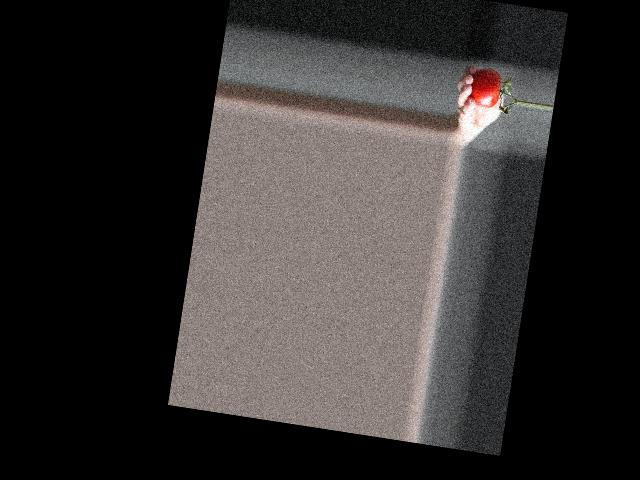tomato: (467, 66, 504, 110)
